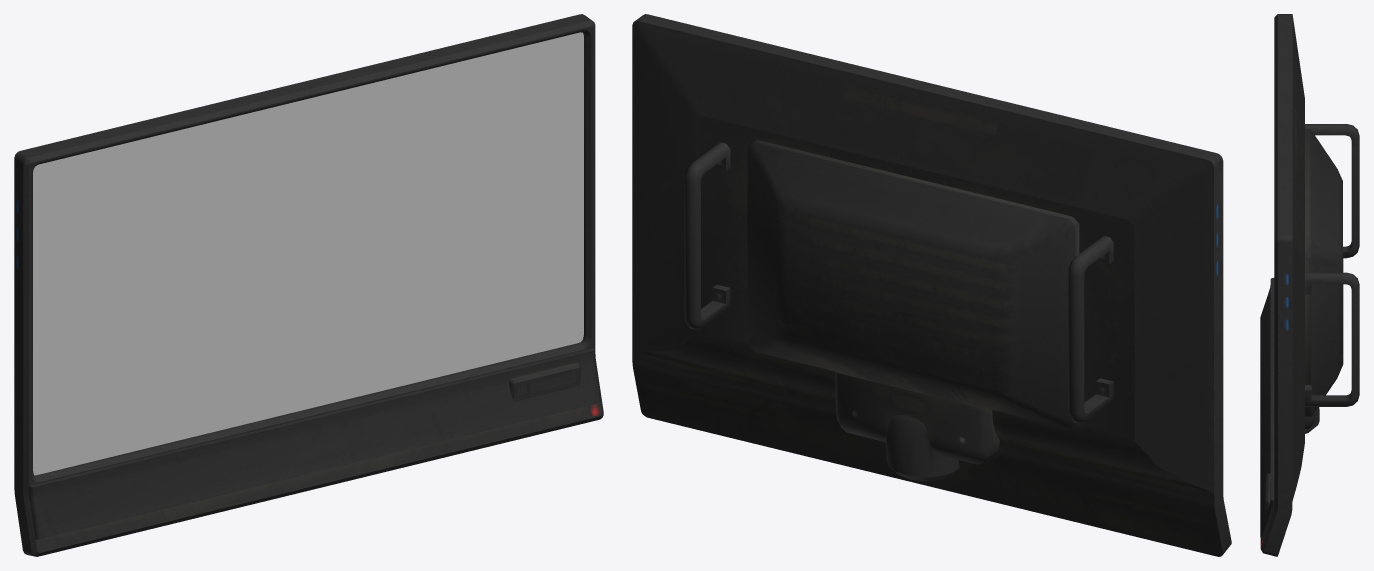
Rendered from SM_PendantDisplay2.fbx.
3 renders of one model, left to right at view 1: azimuth 30°, elevation 25°; view 2: azimuth 150°, elevation 25°; view 3: azimuth 270°, elevation 25°, orthographic. The views are drawn at different scales.
Parts seen in each view (by area): view 1: SM_PendantDisplay2_LOD0; view 2: SM_PendantDisplay2_LOD0; view 3: SM_PendantDisplay2_LOD0.
Boxes of the visible parts, bbox=[...] form: SM_PendantDisplay2_LOD0: bbox=[14, 14, 603, 556]; SM_PendantDisplay2_LOD0: bbox=[632, 14, 1231, 556]; SM_PendantDisplay2_LOD0: bbox=[1260, 14, 1359, 556].
Size of the model in its own units: 82.32 by 15.28 by 54.61.
